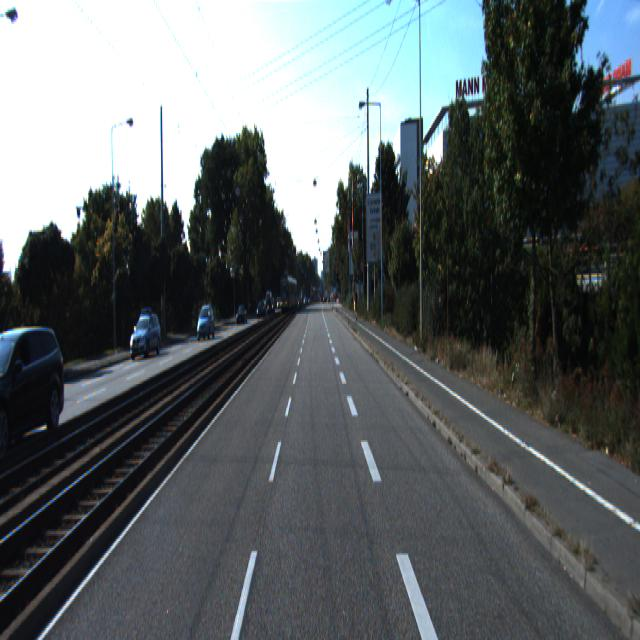Car: (0, 320, 71, 467), (129, 310, 163, 362), (195, 305, 215, 344)
